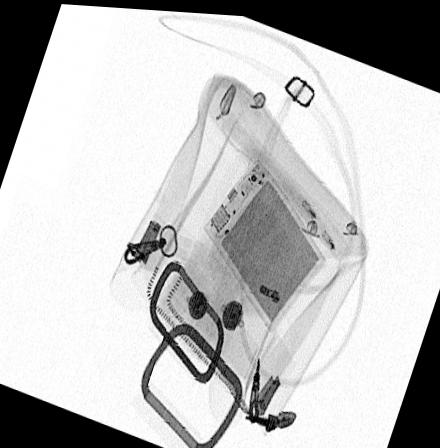Powerbank: (202, 156, 325, 332)
